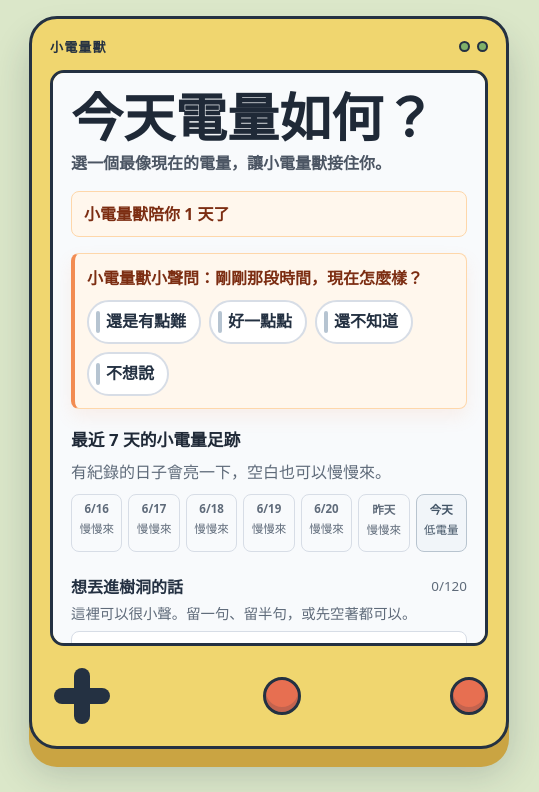
Scenario: App › keeps a selected follow-up option hidden for the same check-in after reload
Click the button "好一點點" at (258, 322), box [209,300,307,344]
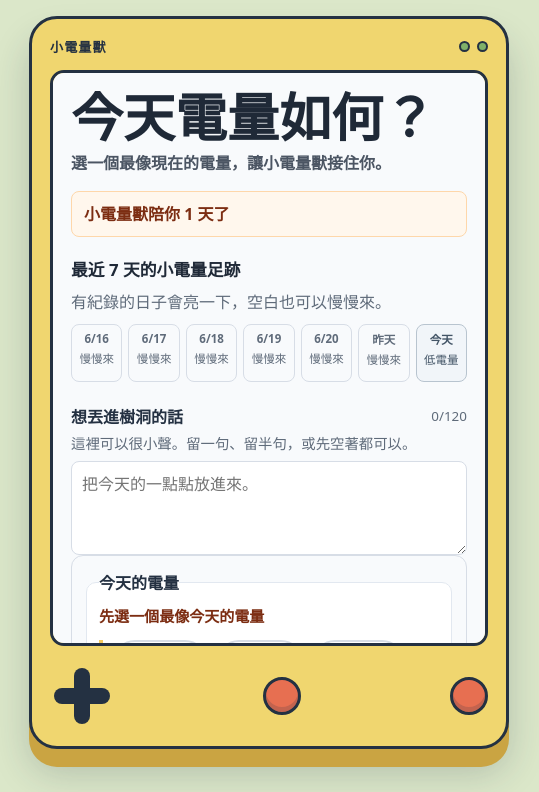
Expected: the text "小電量獸小聲問：剛剛那段時間，現在怎麼樣？" is gone
